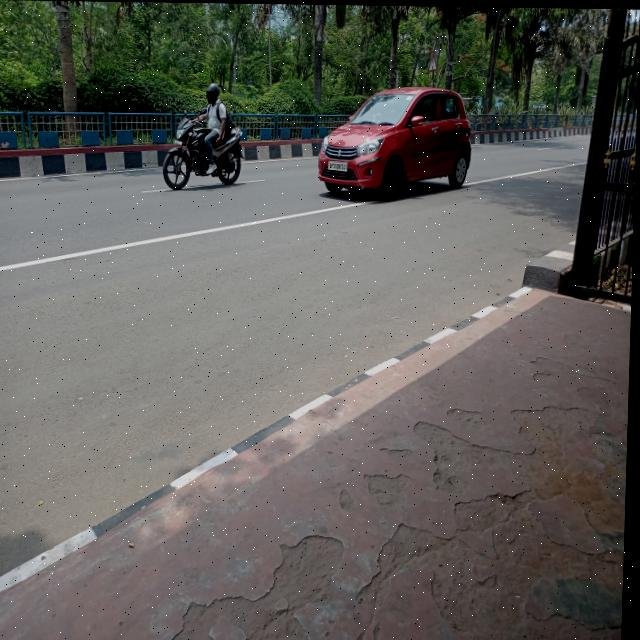bike: (153, 114, 268, 202)
car: (300, 81, 485, 205)
